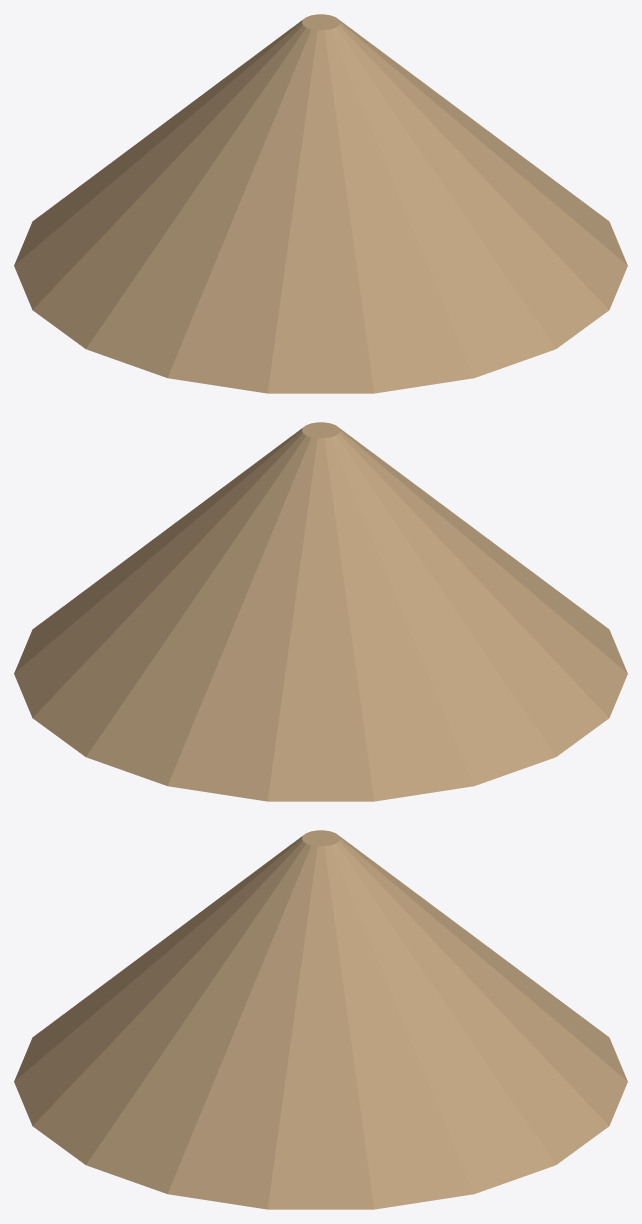
File: dirtpile.fbx
The picture shows the model from 3 angles, top to bottom: view 1: azimuth 30°, elevation 25°; view 2: azimuth 150°, elevation 25°; view 3: azimuth 270°, elevation 25°; orthographic projection.
Parts seen in each view (by area): view 1: DirtPile; view 2: DirtPile; view 3: DirtPile.
Boxes of the visible parts, x1,y1,x2,y2 form: DirtPile: (14,14,627,393); DirtPile: (14,422,627,801); DirtPile: (14,830,627,1209).
Size of the model in its own units: 3.15 by 1.4 by 3.2.
